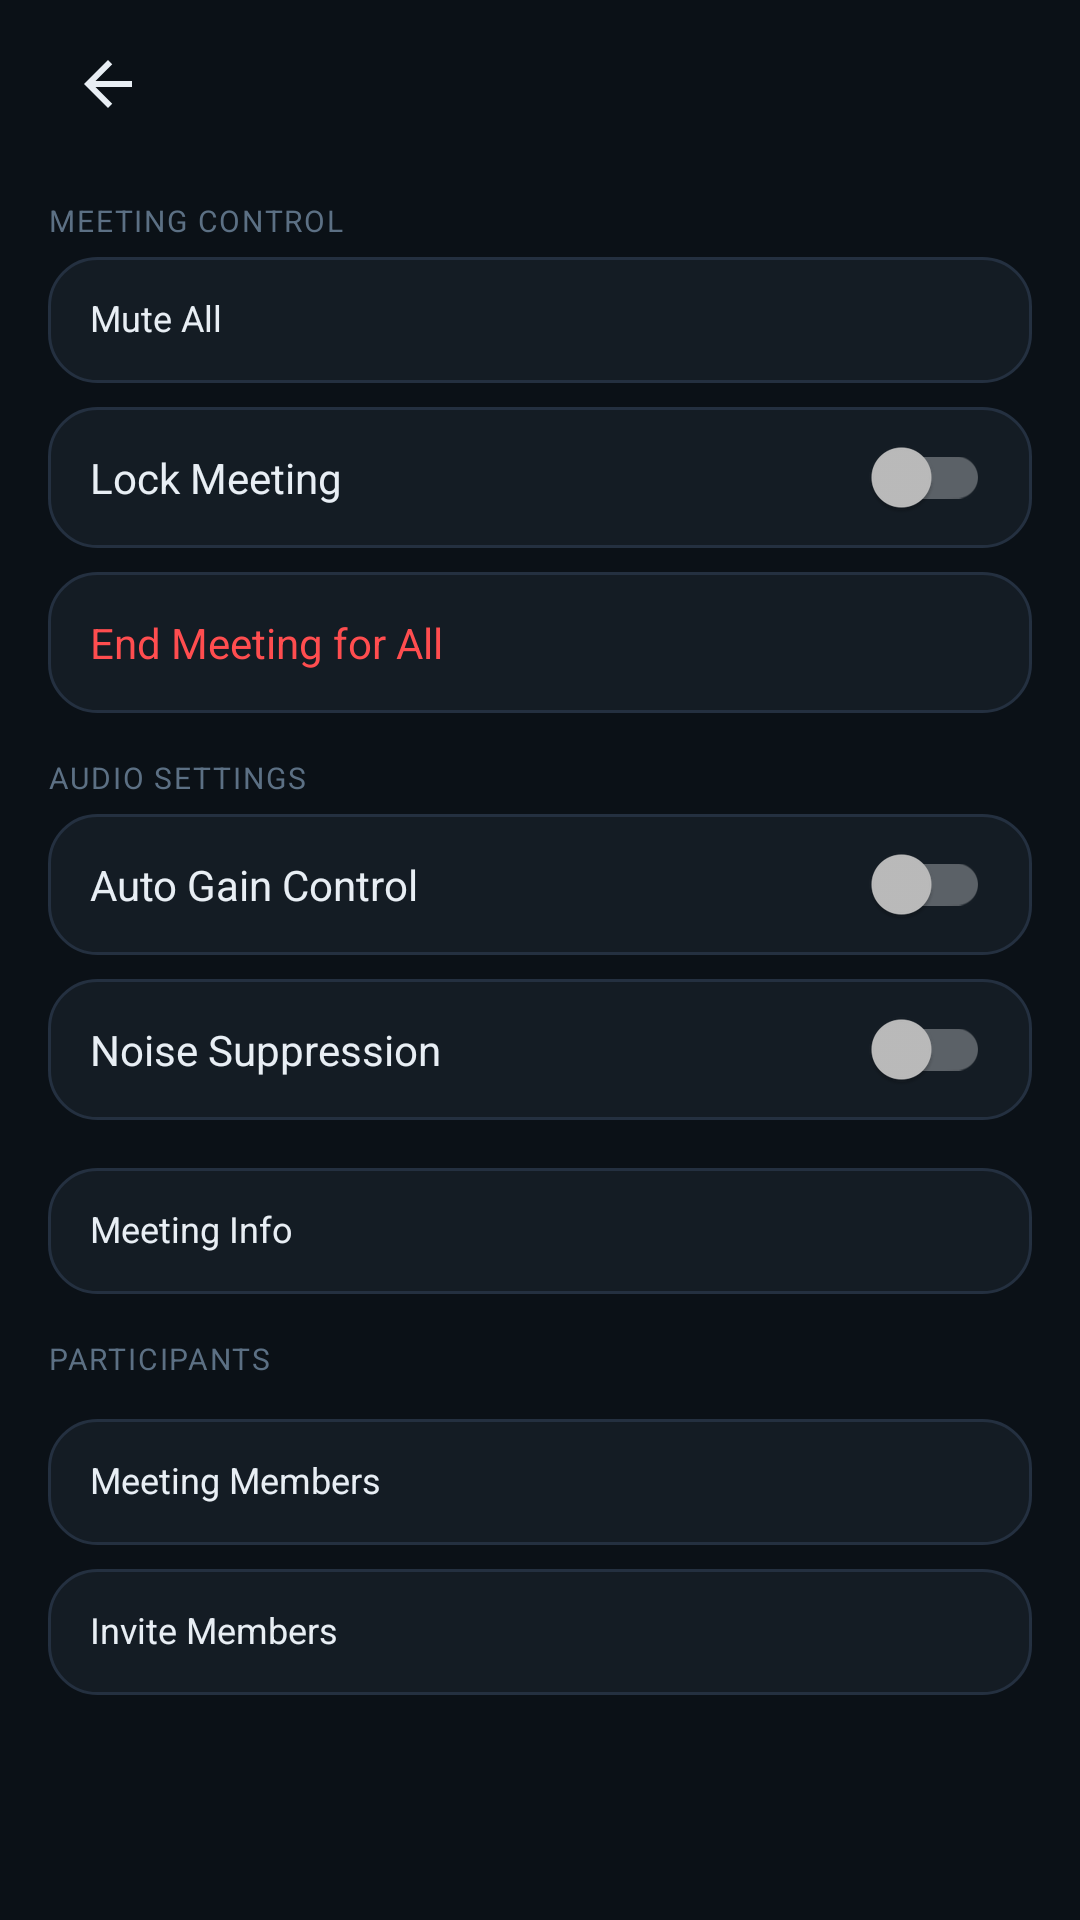

Named icons in this screenshot (1080px x 1920px) and their centers, (x=x, y=y):
Back: (x=108, y=84)
